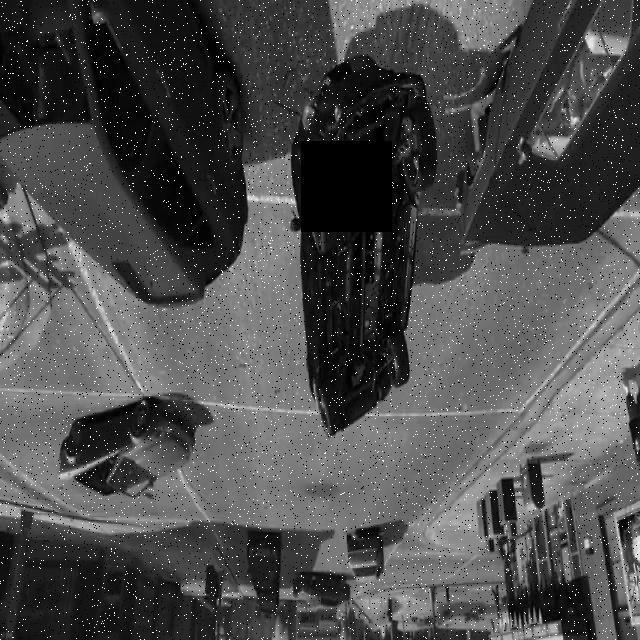severe: (287, 50, 442, 442)
